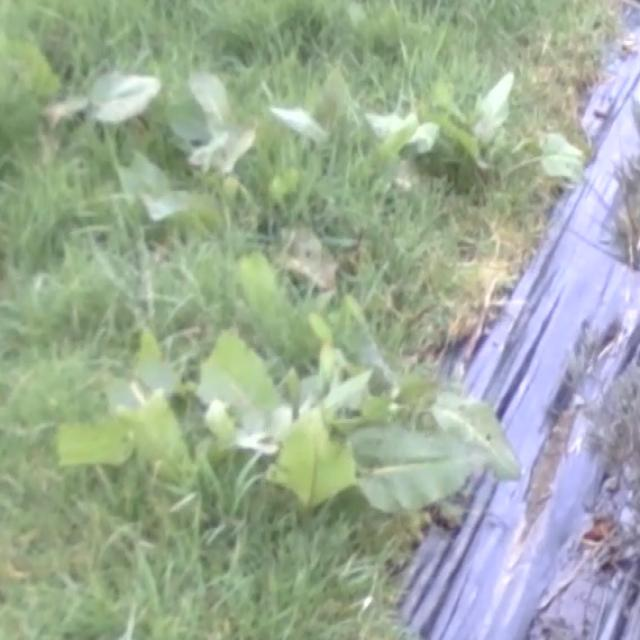organic waste: (77, 296, 513, 556), (362, 51, 579, 215), (18, 34, 217, 196), (158, 65, 360, 222)
